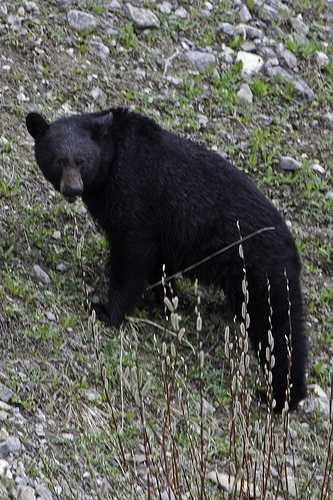bear: (1, 84, 129, 212)
